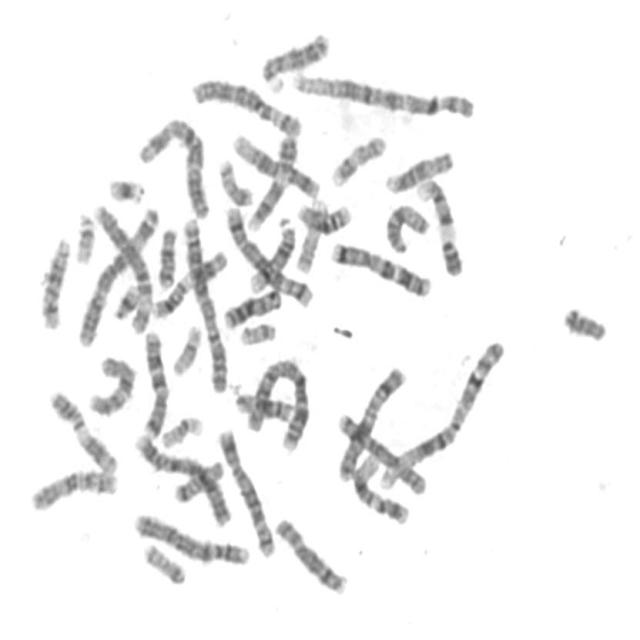A1: (374, 333, 508, 494), (286, 64, 478, 122)
A2: (178, 210, 230, 395), (241, 352, 313, 454)
A3: (73, 200, 162, 348), (133, 110, 213, 221)
B4: (129, 428, 233, 530), (128, 507, 252, 568)
B5: (219, 199, 316, 308), (213, 420, 278, 560)
C10: (25, 462, 120, 513), (83, 349, 139, 418)
C11: (42, 383, 120, 478), (147, 243, 230, 320)
C12: (227, 126, 323, 200), (347, 445, 412, 526)
C6: (186, 71, 305, 139), (93, 202, 153, 334)
C7: (326, 234, 434, 299), (137, 324, 170, 441)
C8: (338, 412, 428, 502), (270, 511, 350, 598)
C9: (242, 128, 298, 232), (412, 172, 464, 278)
D13: (256, 24, 332, 93), (219, 282, 284, 331)
D14: (245, 214, 298, 294), (35, 230, 72, 332)
D15: (380, 143, 456, 195), (381, 197, 432, 256)
E16: (292, 196, 353, 235), (232, 390, 304, 422)
E17: (326, 128, 389, 188), (291, 193, 331, 276)
E18: (168, 453, 226, 505), (153, 220, 180, 291)
F19: (167, 318, 204, 378), (156, 408, 205, 449)
F20: (138, 536, 188, 586), (212, 152, 255, 207)
G21: (108, 276, 142, 322), (103, 171, 147, 205)
G22: (70, 206, 97, 266), (234, 316, 278, 346)
X: (333, 358, 408, 484)
Y: (558, 299, 610, 344)
